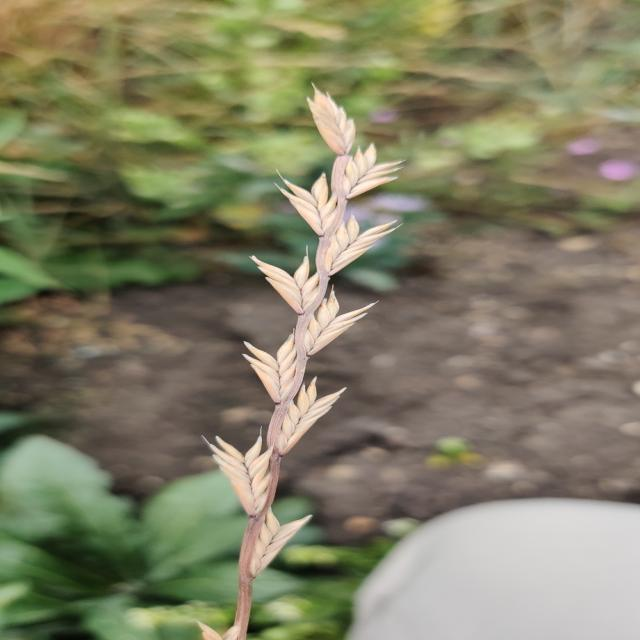Lolium: (196, 81, 409, 638)
